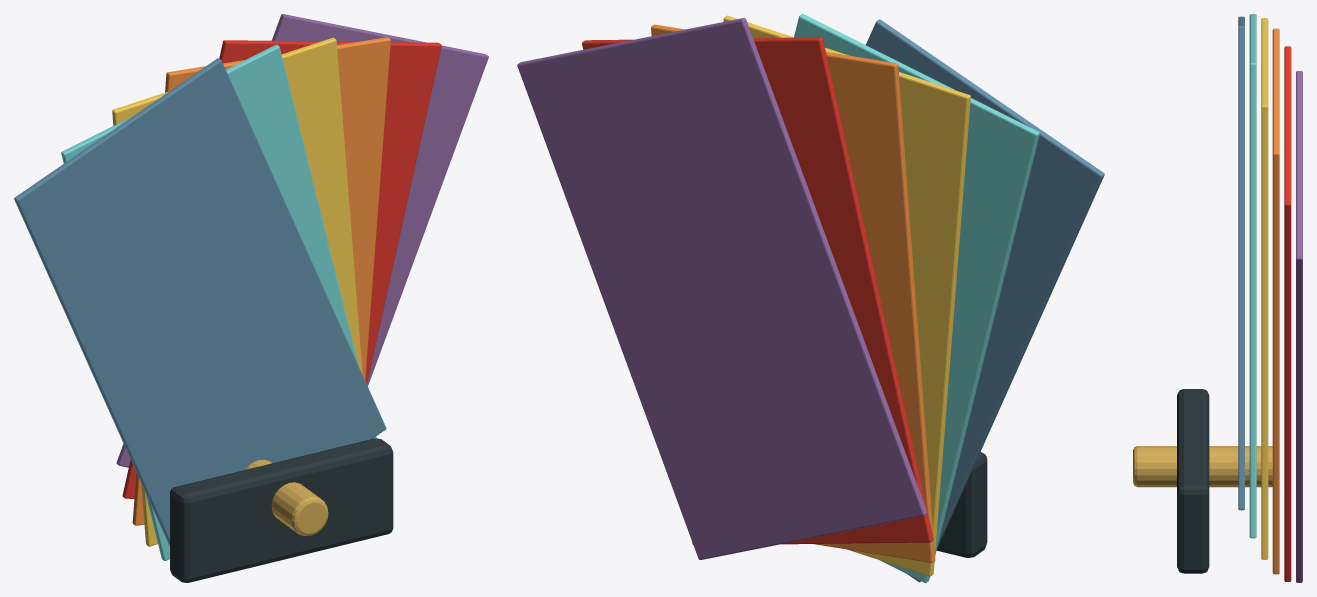
The model's file is P077_gel_swatches.glb.
3 views of the same model, side by side, from view 1: azimuth 30°, elevation 25°; view 2: azimuth 150°, elevation 25°; view 3: azimuth 270°, elevation 25° (orthographic). The views are drawn at different scales.
Parts seen in each view (by area): view 1: P077_swatch_001, P077_binding_008, P077_swatch_006, P077_swatch_005, P077_swatch_003, P077_swatch_002, P077_swatch_004, P077_pivot_007; view 2: P077_swatch_006, P077_swatch_005, P077_swatch_001, P077_swatch_002, P077_swatch_004, P077_swatch_003, P077_binding_008; view 3: P077_binding_008, P077_swatch_004, P077_swatch_003, P077_swatch_005, P077_swatch_002, P077_pivot_007, P077_swatch_006, P077_swatch_001.
Boxes of the visible parts, bbox=[...] form: P077_swatch_001: bbox=[14, 58, 386, 546]; P077_binding_008: bbox=[170, 438, 393, 582]; P077_swatch_006: bbox=[116, 14, 488, 467]; P077_swatch_005: bbox=[122, 40, 441, 498]; P077_swatch_003: bbox=[112, 37, 362, 546]; P077_swatch_002: bbox=[61, 44, 376, 560]; P077_swatch_004: bbox=[132, 37, 390, 525]; P077_pivot_007: bbox=[245, 459, 328, 535]; P077_swatch_006: bbox=[517, 18, 927, 559]; P077_swatch_005: bbox=[582, 37, 933, 544]; P077_swatch_001: bbox=[866, 19, 1104, 582]; P077_swatch_002: bbox=[794, 14, 1039, 582]; P077_swatch_004: bbox=[651, 24, 935, 562]; P077_swatch_003: bbox=[723, 15, 970, 576]; P077_binding_008: bbox=[936, 452, 987, 557]; P077_binding_008: bbox=[1177, 389, 1209, 573]; P077_swatch_004: bbox=[1272, 28, 1279, 574]; P077_swatch_003: bbox=[1261, 18, 1268, 559]; P077_swatch_005: bbox=[1284, 46, 1291, 581]; P077_swatch_002: bbox=[1249, 14, 1256, 538]; P077_pivot_007: bbox=[1133, 446, 1272, 487]; P077_swatch_006: bbox=[1296, 71, 1302, 582]; P077_swatch_001: bbox=[1238, 16, 1244, 510].
Bounding box in the file's own units: 0.2476 × 0.2358 × 0.0735.
